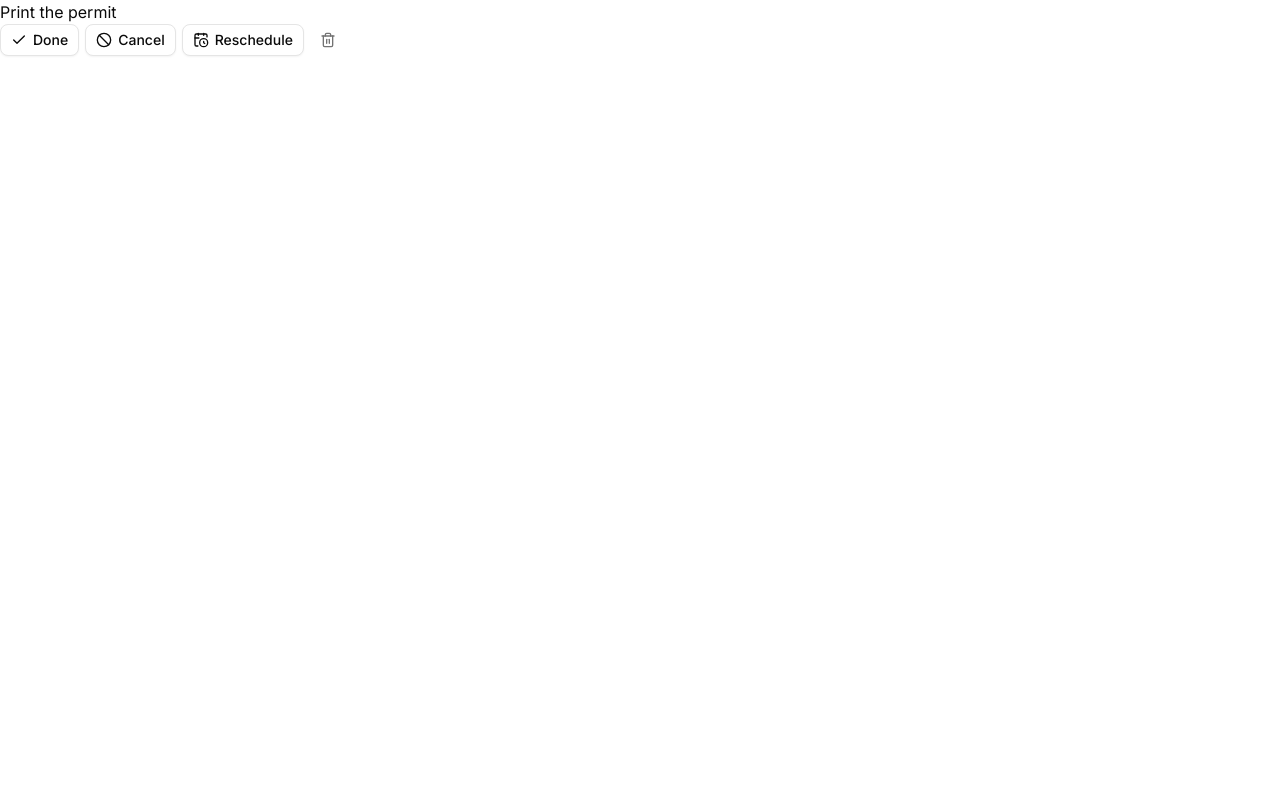
Test: JournalTaskActions › delete is the exception, not the ordinary action › says that cancelling keeps the task, so the choice is informed
The image size is (1280, 800).
Step 1. Click the button named "Delete task" → click(328, 40), box [310,24,346,56]
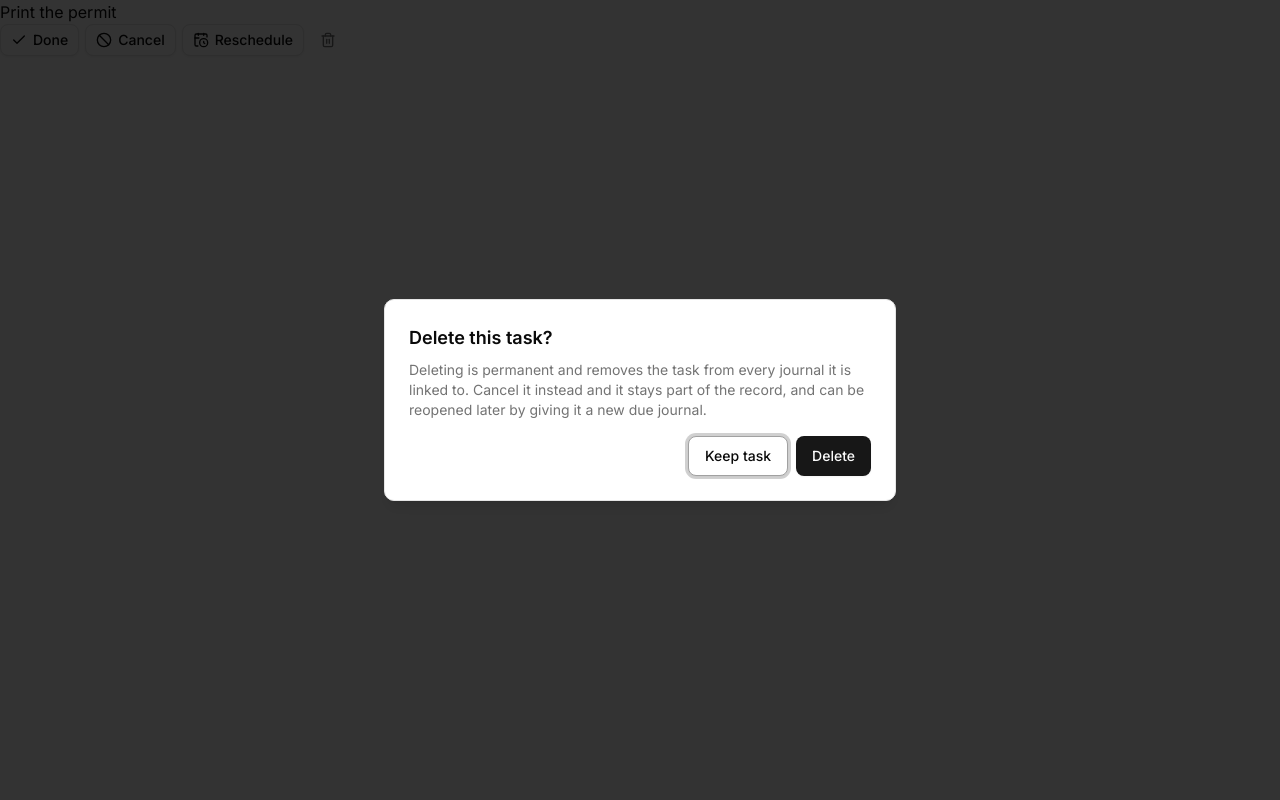
Expected: the text "cancel" is shown, [409,361,864,418]
